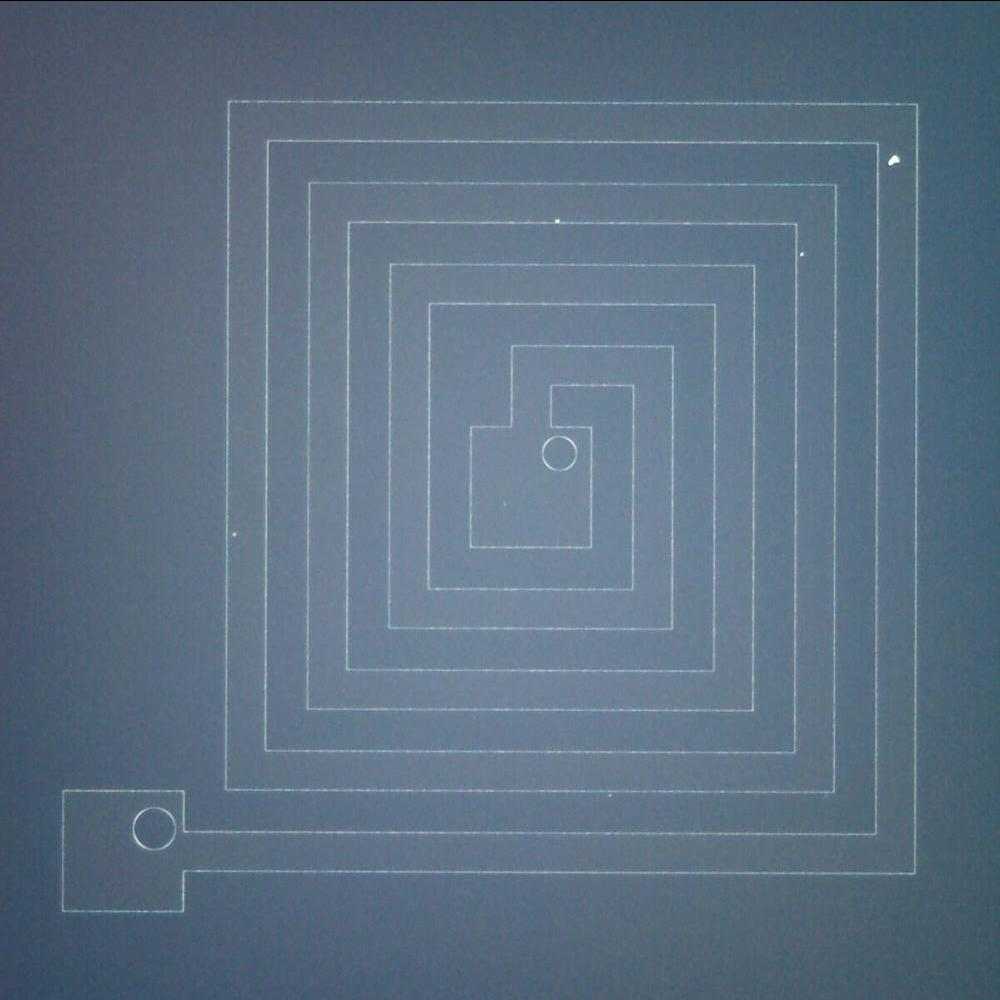circle: (128, 804, 178, 853), (538, 430, 580, 471)
dot: (792, 234, 816, 266), (545, 208, 567, 232)
spot: (882, 148, 908, 170)
